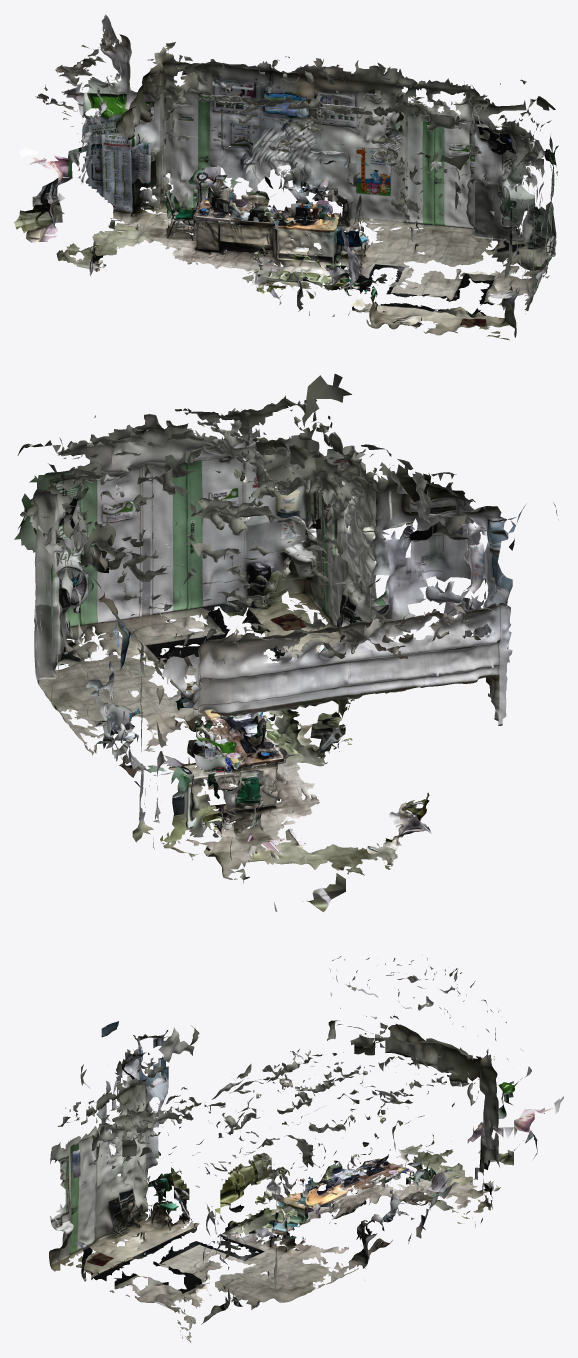
The model's file is 139793-polianakmanual-tex.glb.
3 views of the same model, one above another, from view 1: azimuth 30°, elevation 25°; view 2: azimuth 150°, elevation 25°; view 3: azimuth 270°, elevation 25° (orthographic). The views are drawn at different scales.
Visible parts, largest first — view 1: Node; view 2: Node; view 3: Node.
Part boxes in pixels (left/top/right/bottom): Node: left=14, top=14, right=558, bottom=340; Node: left=14, top=374, right=558, bottom=911; Node: left=49, top=955, right=563, bottom=1342.
Size of the model in its own units: 9.54 by 4.87 by 10.7.
Materials: 23 (23 with a texture image).
